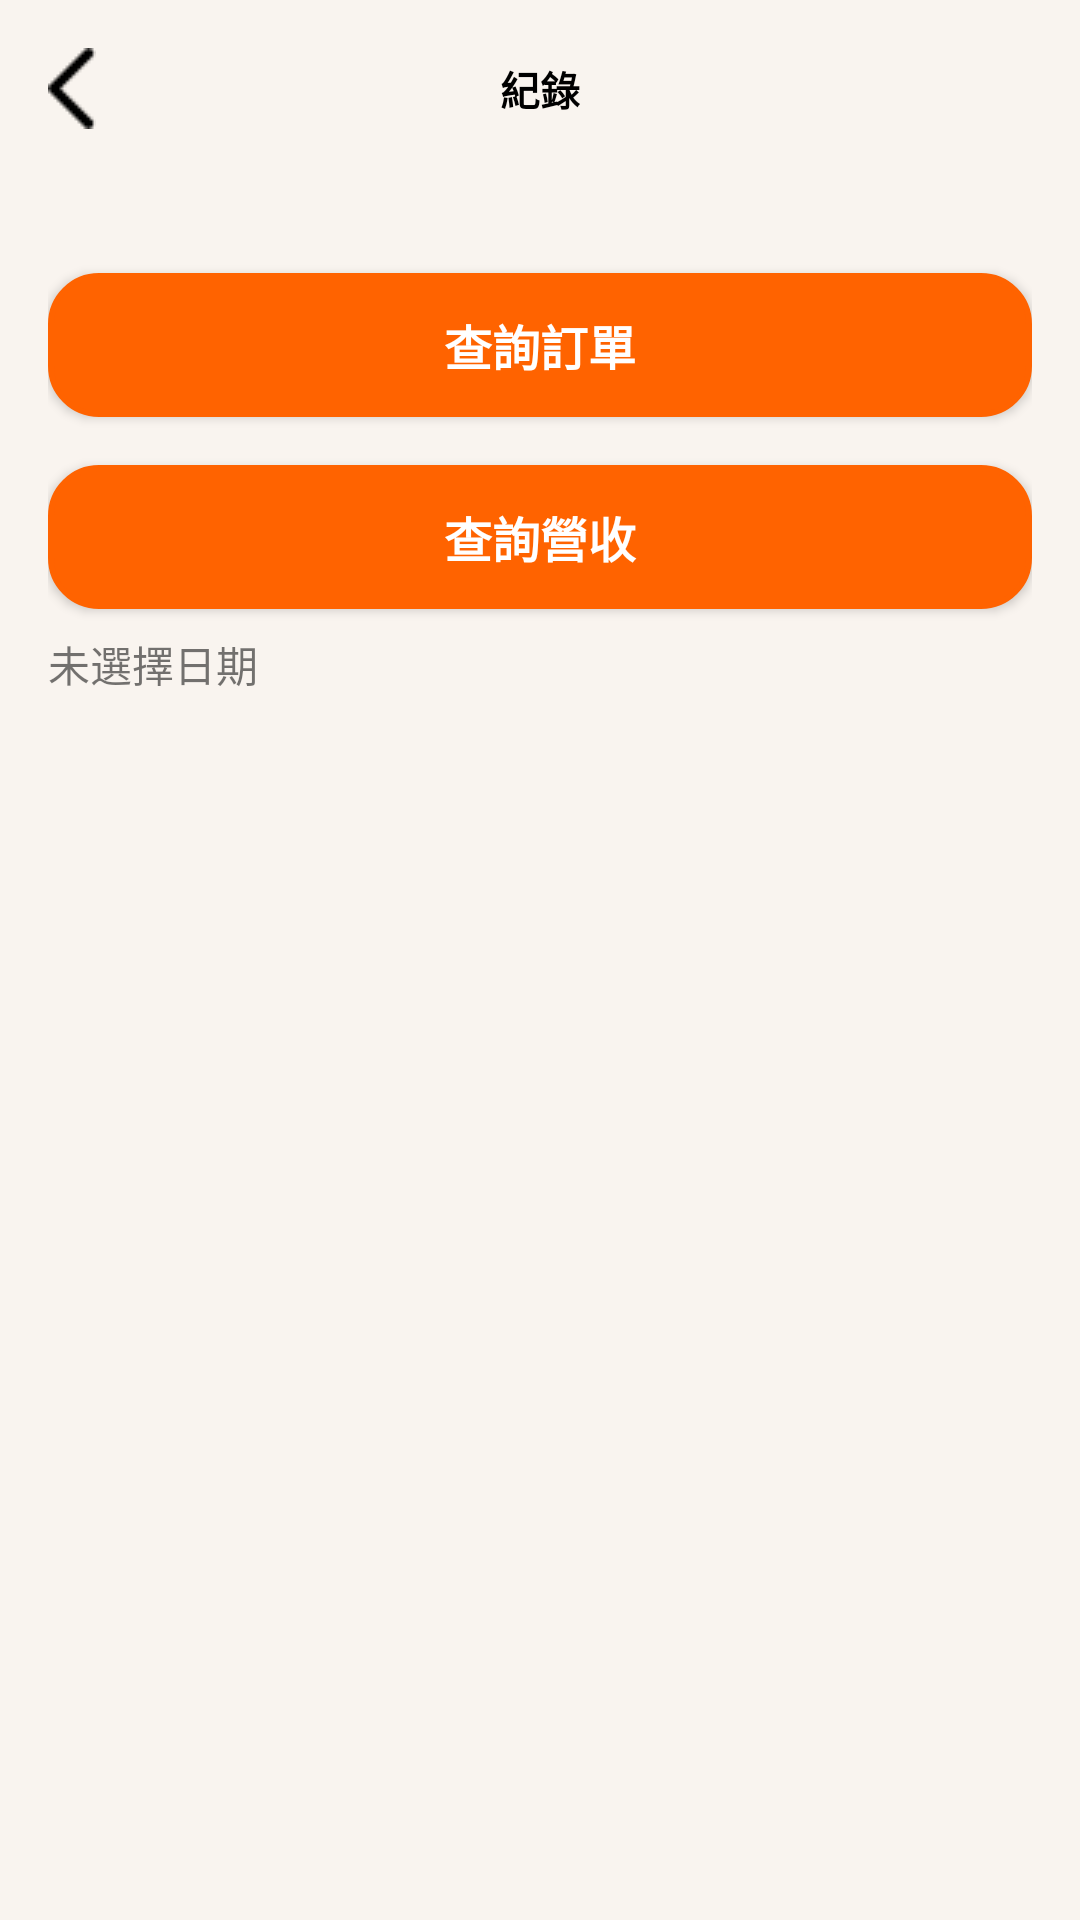

Named icons in this screenshot (1080*1920) and their centers, (x=x, y=y):
back: (x=72, y=88)
